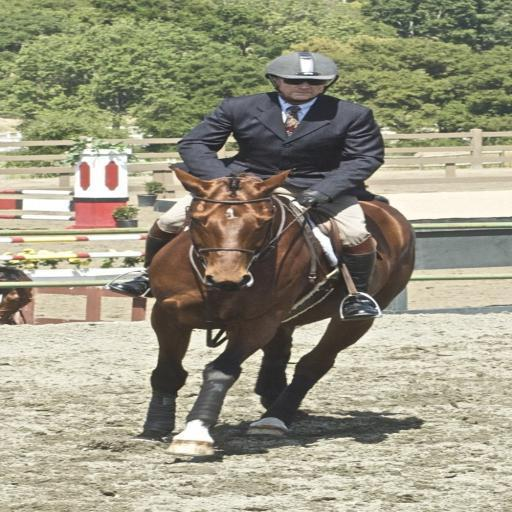horse: (140, 167, 420, 459)
